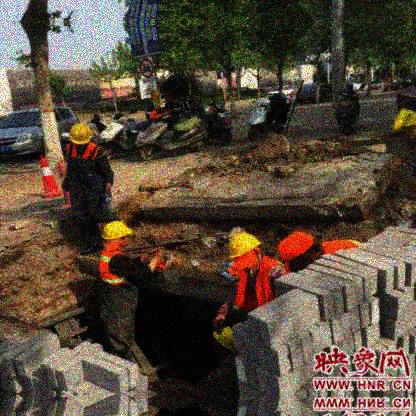helmet: (276, 231, 317, 273), (227, 233, 261, 270), (102, 221, 136, 251), (70, 123, 95, 151), (212, 327, 236, 356)
